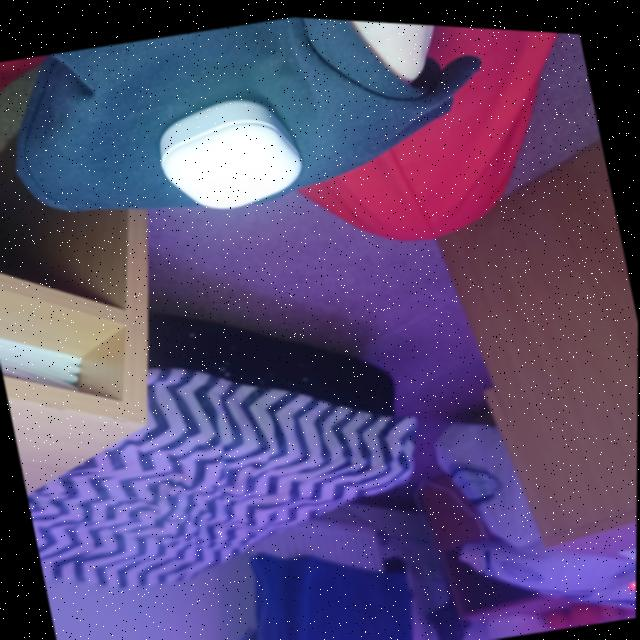headphones: (159, 95, 301, 205)
